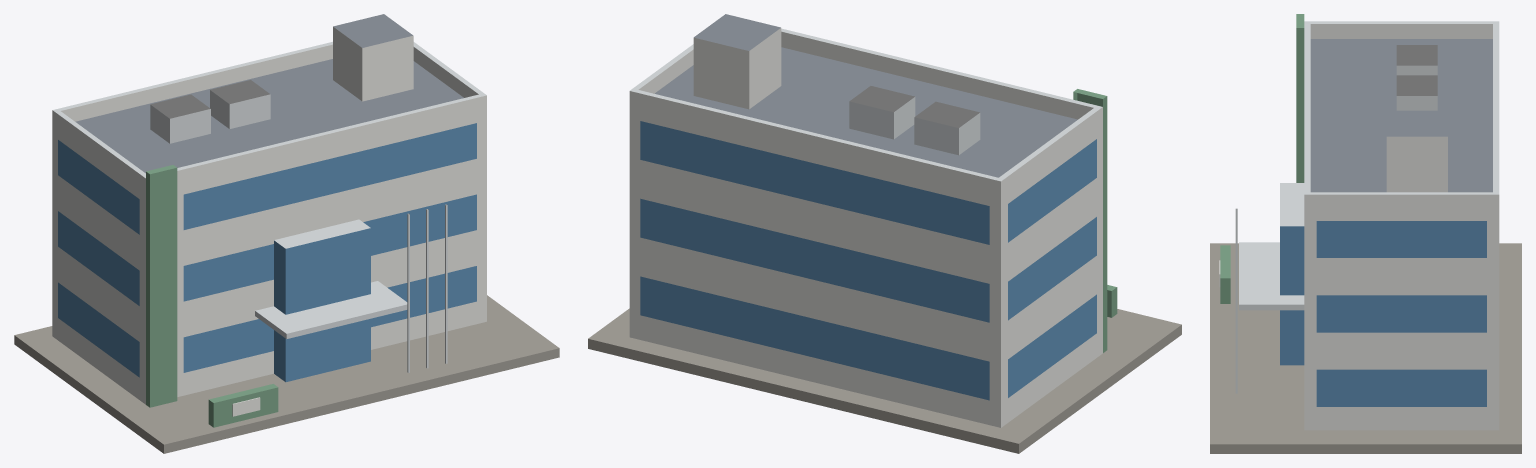
Rendered from mashup-admin-top-prebuilt.fbx.
The picture shows the model from 3 angles, left to right: view 1: azimuth 30°, elevation 25°; view 2: azimuth 150°, elevation 25°; view 3: azimuth 270°, elevation 25°; orthographic projection. The views are drawn at different scales.
Parts seen in each view (by area): view 1: a1057/0/mashup-admin-top-prebuilt; view 2: a1057/0/mashup-admin-top-prebuilt; view 3: a1057/0/mashup-admin-top-prebuilt.
Part boxes in pixels (bbox=[...]): a1057/0/mashup-admin-top-prebuilt: bbox=[14, 14, 559, 453]; a1057/0/mashup-admin-top-prebuilt: bbox=[588, 14, 1181, 453]; a1057/0/mashup-admin-top-prebuilt: bbox=[1210, 14, 1521, 453].
Bounding box in the file's own units: 23.2 × 15.4 × 15.2.
